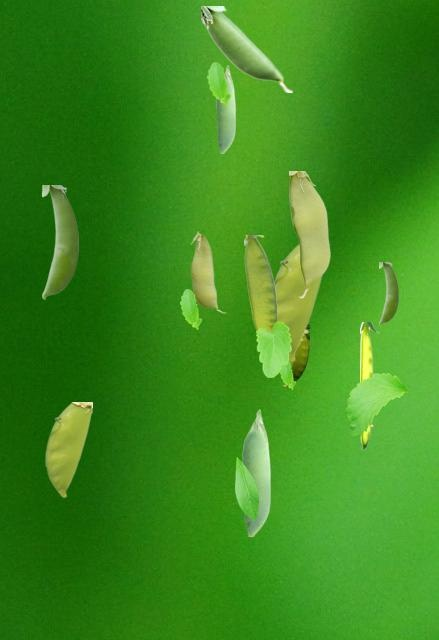pea: (201, 6, 291, 91), (275, 244, 322, 360), (289, 171, 329, 297), (45, 402, 91, 496), (42, 185, 77, 298), (242, 409, 269, 535), (244, 235, 278, 330), (190, 231, 225, 312), (360, 322, 378, 448), (216, 65, 234, 152), (282, 326, 308, 386), (379, 262, 397, 324)
